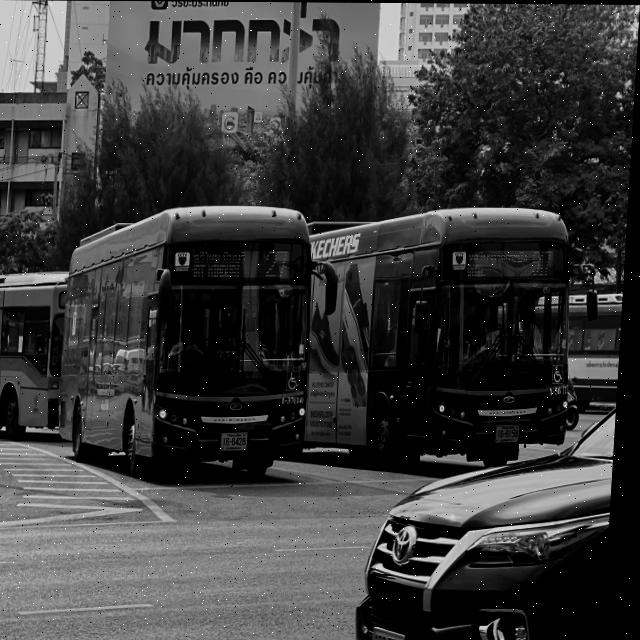BMTA-bus: (0, 271, 74, 442)
Bus-Line-Number: (264, 246, 295, 282), (532, 245, 559, 277)
Destination-Sign-Normal: (192, 246, 259, 282), (466, 247, 533, 278)
TSB-Bus: (301, 206, 590, 473), (59, 204, 322, 479)
